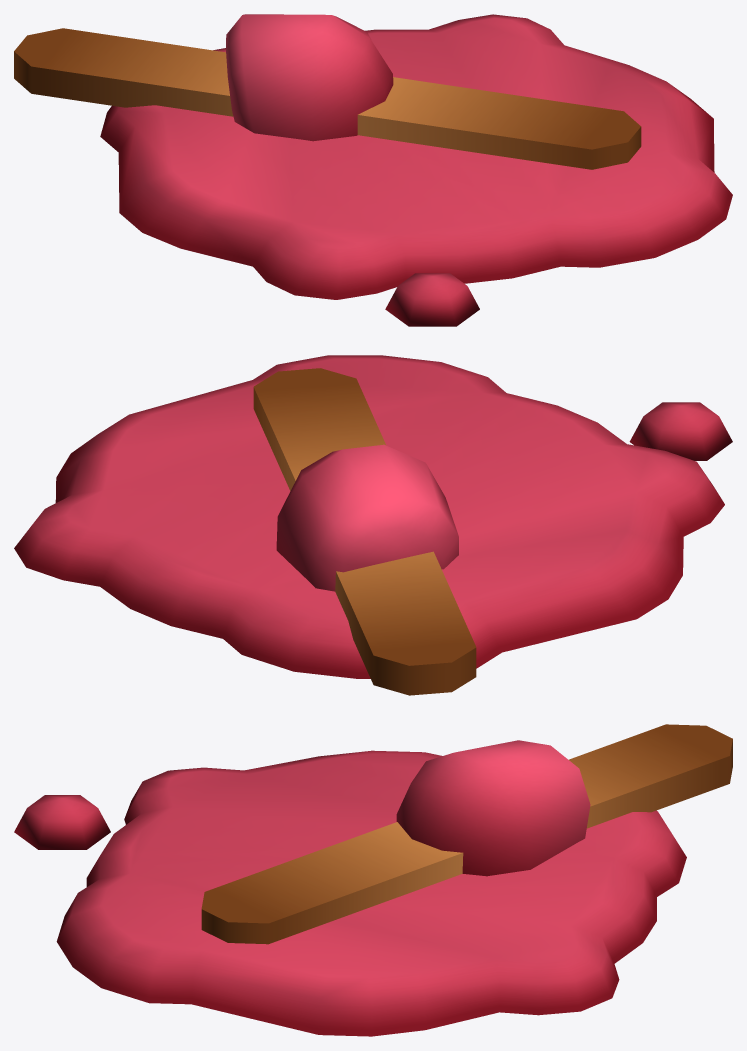
The model's file is m_SpilledPopsicle07.fbx.
3 views of the same model, one above another, from view 1: azimuth 30°, elevation 25°; view 2: azimuth 150°, elevation 25°; view 3: azimuth 270°, elevation 25° (orthographic). The views are drawn at different scales.
Visible parts, largest first — view 1: m_SpilledPopsicle07; view 2: m_SpilledPopsicle07; view 3: m_SpilledPopsicle07.
Part boxes in pixels (left/top/right/bottom): m_SpilledPopsicle07: left=14, top=14, right=732, bottom=326; m_SpilledPopsicle07: left=14, top=355, right=732, bottom=695; m_SpilledPopsicle07: left=14, top=724, right=732, bottom=1036.
Bounding box in the file's own units: 12.21 × 2.52 × 13.54.
